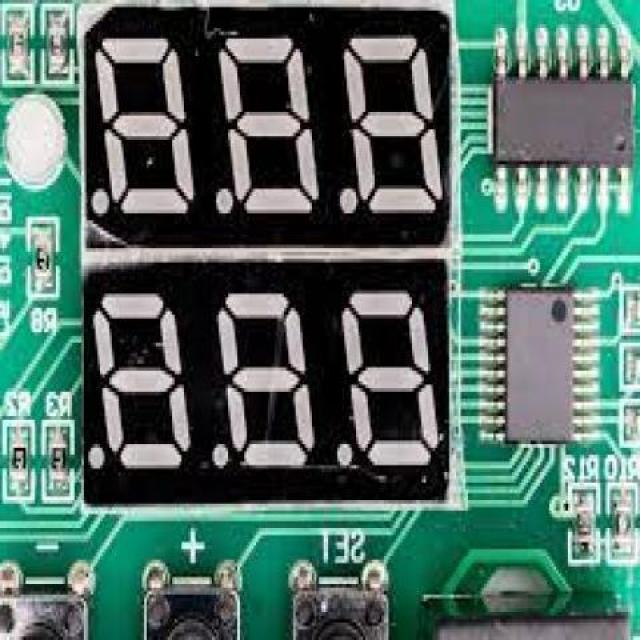IC: (485, 52, 639, 190), (494, 283, 580, 449)
resistor: (0, 17, 34, 87), (609, 494, 631, 554), (570, 501, 596, 548), (12, 436, 29, 491), (47, 18, 65, 68), (49, 438, 67, 482), (36, 234, 50, 284)
